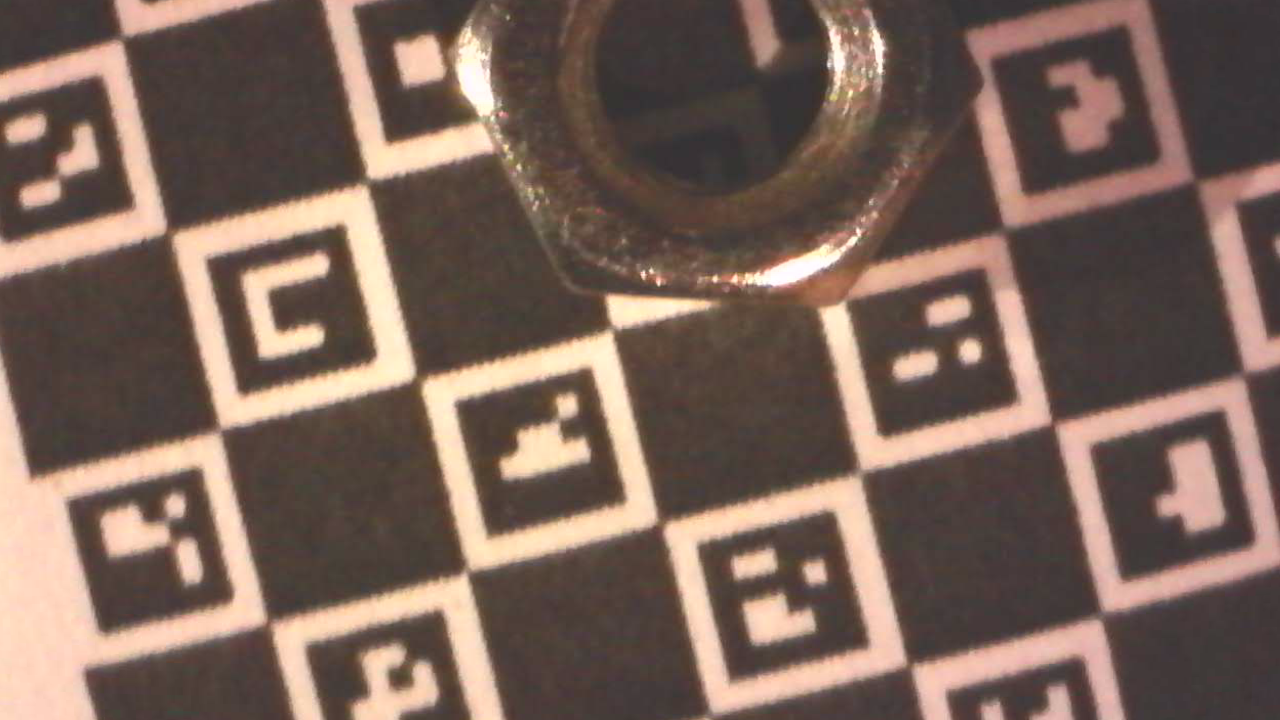Bolt: (447, 0, 988, 312)
